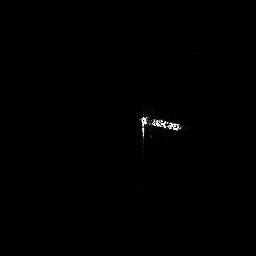ship: (135, 110, 185, 150)
